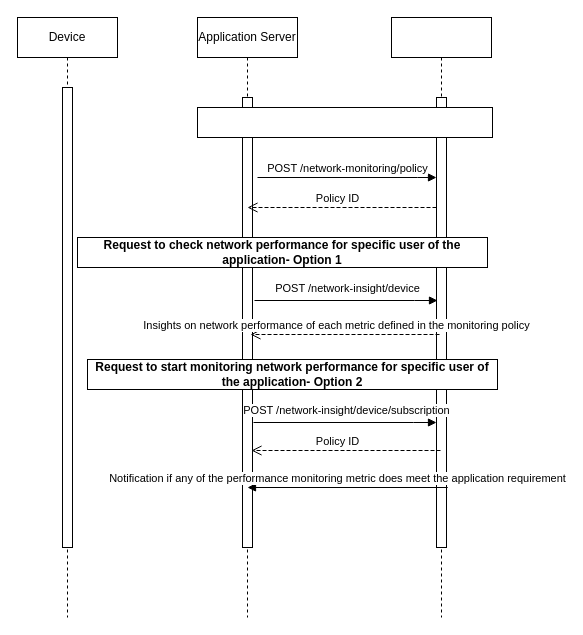
This 583x635 diagram has some shape labels left out. The shapes that lost their labels are listed below. From the top down, each one's centre as x and y in pixels, then its label:
(x=344, y=122): Create a network performance monitoring policy
(x=441, y=317): Connectivity Insights Service
